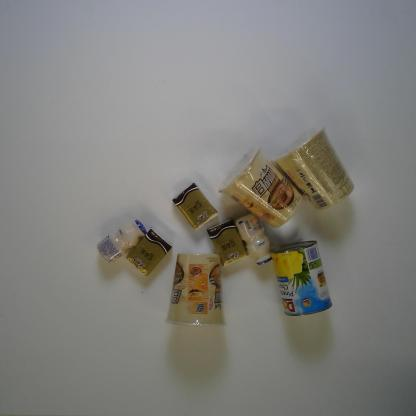Canned Food: (270, 240, 334, 318)
Instant Noodles: (270, 122, 356, 212), (217, 145, 304, 230), (164, 251, 227, 329)
Milk: (95, 218, 148, 265), (235, 212, 272, 266)
Tissue: (124, 226, 173, 278), (171, 181, 219, 231), (206, 218, 248, 268)
